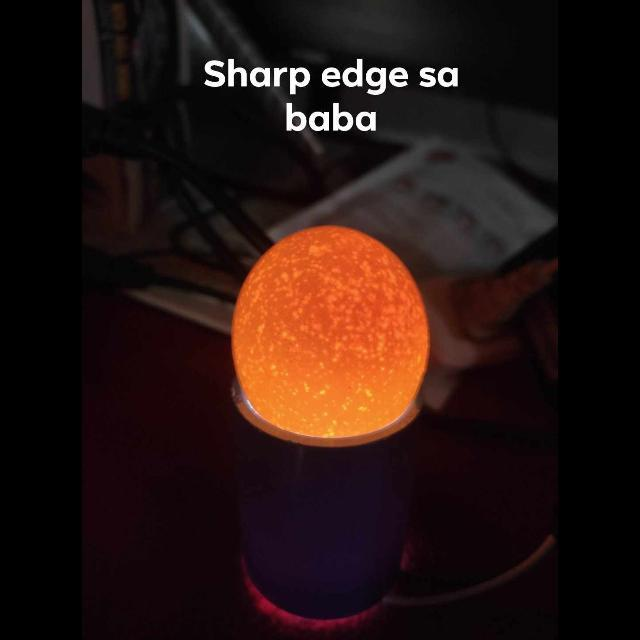Infertile: (234, 225, 428, 432)
